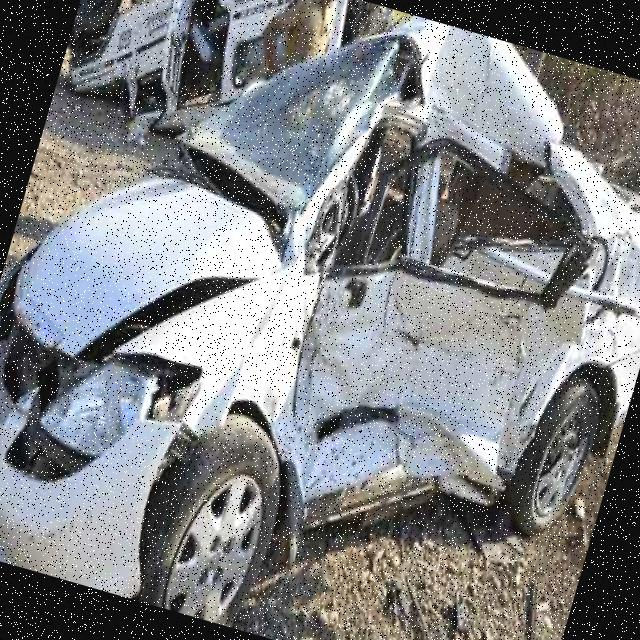Severe Damage: (179, 0, 640, 640)
